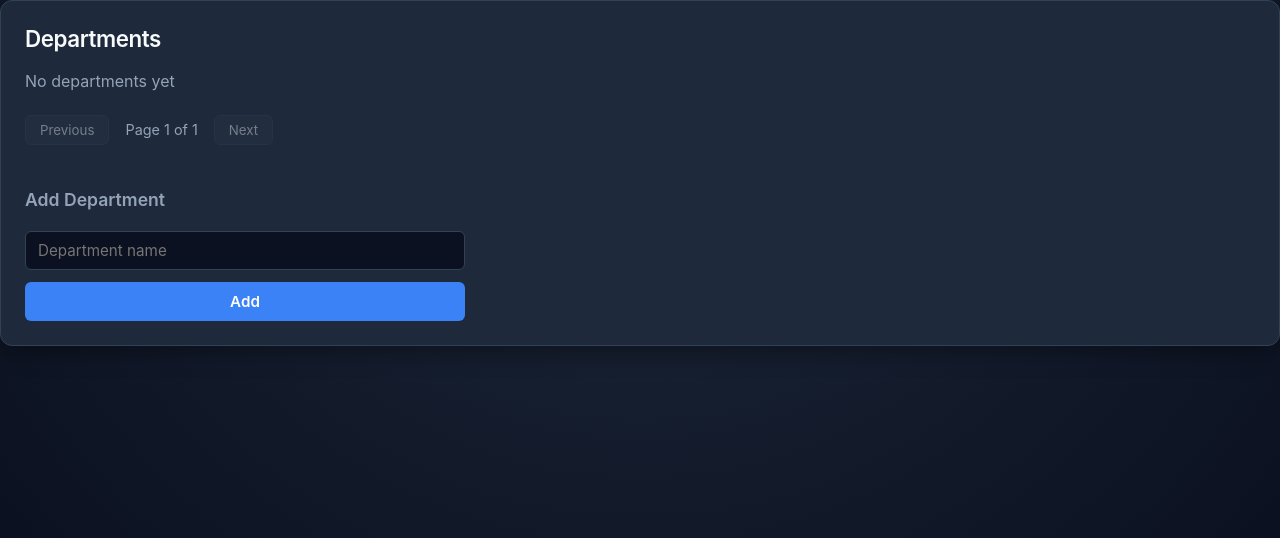
Test case: DepartmentsPanel › adding a department calls POST and refreshes the list
Expected: the text "No departments yet" is shown, [25,71,175,91]
Type "Parks" into the field with placeholder "Department name" at (245, 250), box [25,231,465,270]
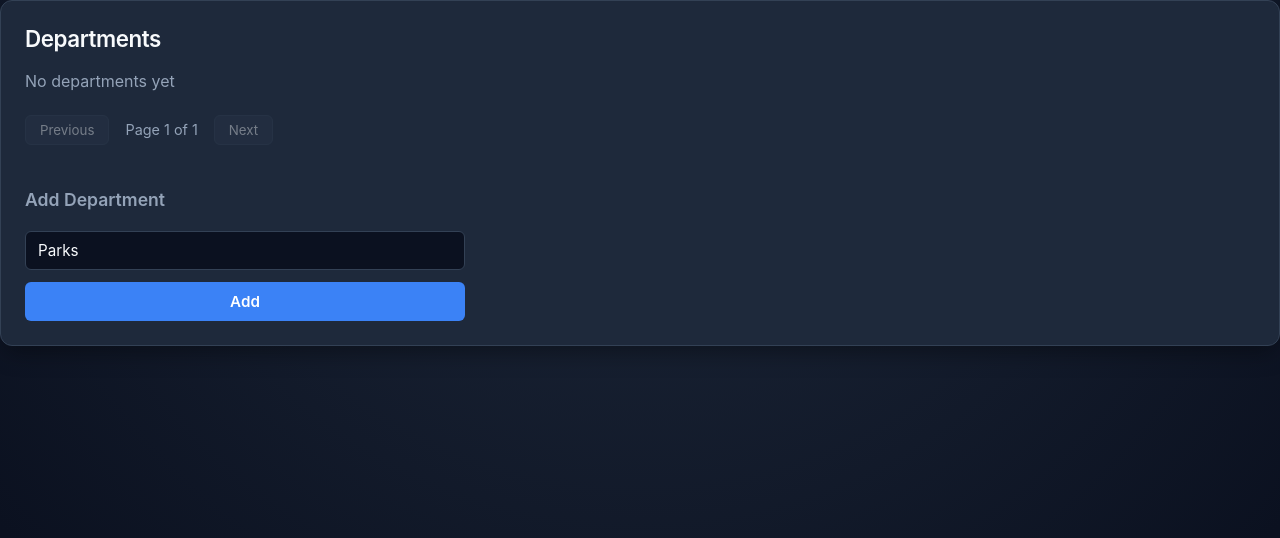
Click the button "Add" at (245, 301), box [25,282,465,321]
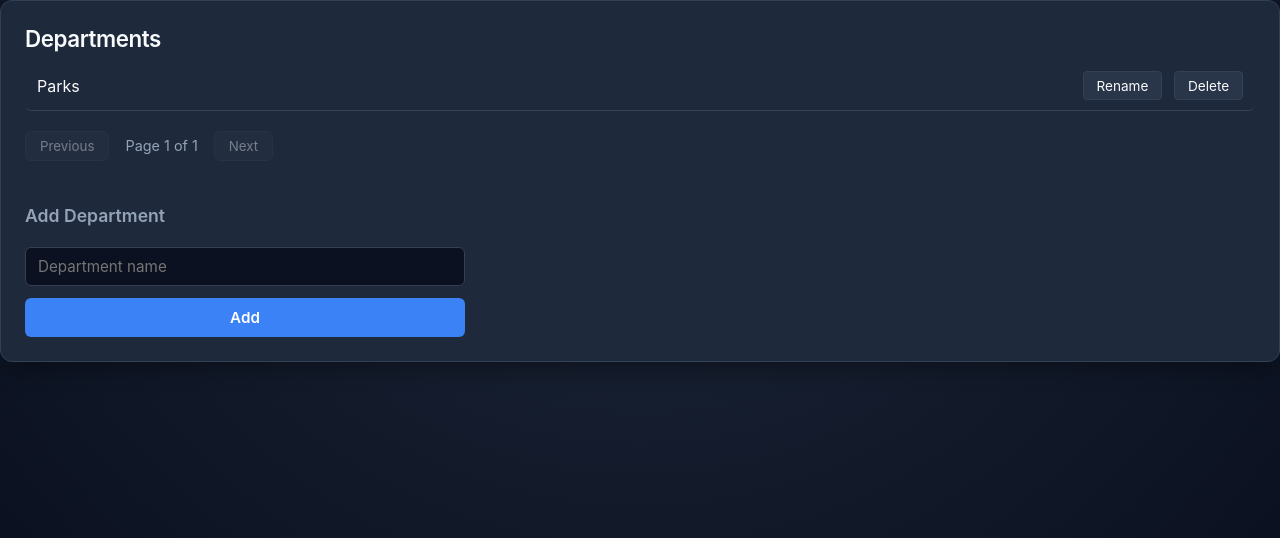
Expected: the text "Parks" is shown, [37,76,80,96]
